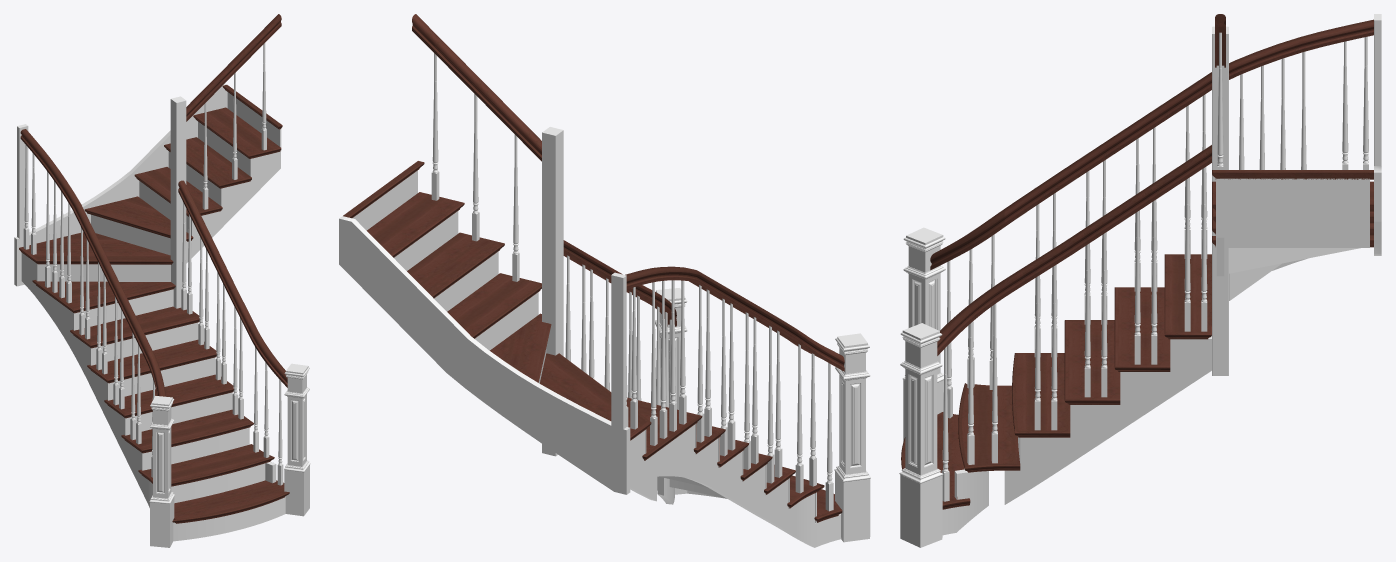
The model's file is bigposts_stair.glb.
3 renders of one model, left to right at view 1: azimuth 30°, elevation 25°; view 2: azimuth 150°, elevation 25°; view 3: azimuth 270°, elevation 25°, orthographic. The views are drawn at different scales.
Visible parts, largest first — view 1: _x0023_RISER0_x002C_950_x002C_950_x002C_951, _x0023_TREADcon_ash1147676.jpg1111.001, _x0023_TREADcon_ash1147676.jpg1111.002, _x0023_STRING0_x002C_950_x002C_950_x002C_951.001, _x0023_STRING0_x002C_950_x002C_950_x002C_951, _x0023_POST0_x002C_950_x002C_950_x002C_951.002, _x0023_HANDRAILcon_ash1147676.jpg1111, _x0023_POST0_x002C_950_x002C_950_x002C_951, _x0023_POST0_x002C_950_x002C_950_x002C_951.003, _x0023_HANDRAILcon_ash1147676.jpg1111.002, _x0023_TREADcon_ash1147676.jpg1111, _x0023_BALUSTER0_x002C_950_x002C_950_x002C_951.016 (+31 smaller); view 2: _x0023_STRING0_x002C_950_x002C_950_x002C_951, _x0023_TREADcon_ash1147676.jpg1111.002, _x0023_STRING0_x002C_950_x002C_950_x002C_951.001, _x0023_TREADcon_ash1147676.jpg1111.001, _x0023_RISER0_x002C_950_x002C_950_x002C_951, _x0023_POST0_x002C_950_x002C_950_x002C_951, _x0023_POST0_x002C_950_x002C_950_x002C_951.003, _x0023_HANDRAILcon_ash1147676.jpg1111, _x0023_BALUSTER0_x002C_950_x002C_950_x002C_951.016, _x0023_HANDRAILcon_ash1147676.jpg1111.002, _x0023_POST0_x002C_950_x002C_950_x002C_951.001, _x0023_POST0_x002C_950_x002C_950_x002C_951.002 (+20 smaller); view 3: _x0023_TREADcon_ash1147676.jpg1111.001, _x0023_RISER0_x002C_950_x002C_950_x002C_951, _x0023_STRING0_x002C_950_x002C_950_x002C_951.001, _x0023_POST0_x002C_950_x002C_950_x002C_951.002, _x0023_HANDRAILcon_ash1147676.jpg1111.002, _x0023_HANDRAILcon_ash1147676.jpg1111, _x0023_POST0_x002C_950_x002C_950_x002C_951, _x0023_POST0_x002C_950_x002C_950_x002C_951.003, _x0023_BALUSTER0_x002C_950_x002C_950_x002C_951.016, _x0023_TREADcon_ash1147676.jpg1111, _x0023_HANDRAILcon_ash1147676.jpg1111.001, _x0023_HANDRAILcon_ash1147676.jpg1111.003 (+13 smaller).
Boxes of the visible parts, x1,y1,x2,y2 form: _x0023_RISER0_x002C_950_x002C_950_x002C_951: (36,92,285,541); _x0023_TREADcon_ash1147676.jpg1111.001: (70,85,282,486); _x0023_TREADcon_ash1147676.jpg1111.002: (19,167,222,313); _x0023_STRING0_x002C_950_x002C_950_x002C_951.001: (21,151,280,507); _x0023_STRING0_x002C_950_x002C_950_x002C_951: (14,83,226,286); _x0023_POST0_x002C_950_x002C_950_x002C_951.002: (284,363,310,516); _x0023_HANDRAILcon_ash1147676.jpg1111: (178,14,281,334); _x0023_POST0_x002C_950_x002C_950_x002C_951: (149,396,174,547); _x0023_POST0_x002C_950_x002C_950_x002C_951.003: (170,96,186,308); _x0023_HANDRAILcon_ash1147676.jpg1111.002: (20,129,152,361); _x0023_TREADcon_ash1147676.jpg1111: (172,480,289,523); _x0023_BALUSTER0_x002C_950_x002C_950_x002C_951.016: (25,43,281,398); _x0023_STRING0_x002C_950_x002C_950_x002C_951: (339,216,630,494); _x0023_TREADcon_ash1147676.jpg1111.002: (447,273,702,460); _x0023_STRING0_x002C_950_x002C_950_x002C_951.001: (630,424,841,547); _x0023_TREADcon_ash1147676.jpg1111.001: (343,161,824,508); _x0023_RISER0_x002C_950_x002C_950_x002C_951: (352,170,816,522); _x0023_POST0_x002C_950_x002C_950_x002C_951: (834,333,870,542); _x0023_POST0_x002C_950_x002C_950_x002C_951.003: (542,127,563,456); _x0023_HANDRAILcon_ash1147676.jpg1111: (412,14,658,306); _x0023_BALUSTER0_x002C_950_x002C_950_x002C_951.016: (434,53,830,391); _x0023_HANDRAILcon_ash1147676.jpg1111.002: (625,266,798,342); _x0023_POST0_x002C_950_x002C_950_x002C_951.001: (611,272,626,429); _x0023_POST0_x002C_950_x002C_950_x002C_951.002: (655,288,687,494); _x0023_TREADcon_ash1147676.jpg1111.001: (958,170,1373,472); _x0023_RISER0_x002C_950_x002C_950_x002C_951: (964,178,1369,470); _x0023_STRING0_x002C_950_x002C_950_x002C_951.001: (942,212,1306,535); _x0023_POST0_x002C_950_x002C_950_x002C_951.002: (899,323,943,547); _x0023_HANDRAILcon_ash1147676.jpg1111.002: (1004,19,1373,226); _x0023_HANDRAILcon_ash1147676.jpg1111: (1004,14,1225,296); _x0023_POST0_x002C_950_x002C_950_x002C_951: (902,227,945,441); _x0023_POST0_x002C_950_x002C_950_x002C_951.003: (1212,26,1228,375); _x0023_BALUSTER0_x002C_950_x002C_950_x002C_951.016: (944,32,1367,374); _x0023_TREADcon_ash1147676.jpg1111: (901,412,970,509); _x0023_HANDRAILcon_ash1147676.jpg1111.001: (937,279,1004,355); _x0023_HANDRAILcon_ash1147676.jpg1111.003: (930,209,1004,270).
Bounding box in the file's own units: 2.01 × 3.32 × 2.48.
Materials: 6 (2 with a texture image).
